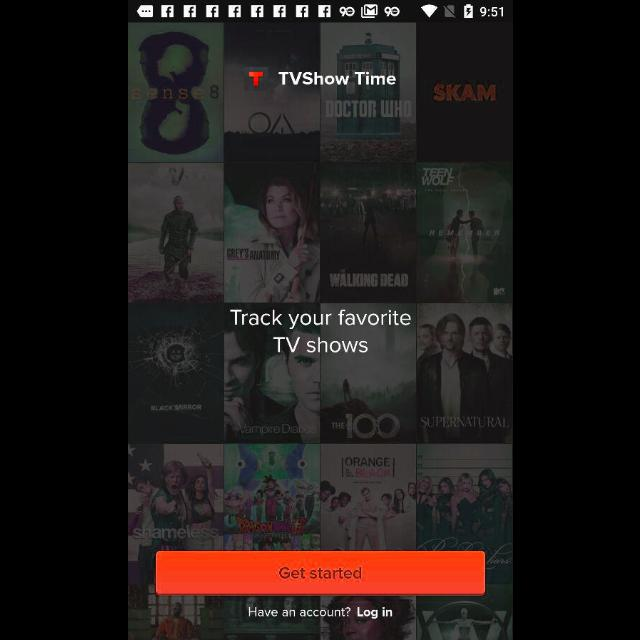backgroundimage: (128, 24, 512, 640)
image: (243, 67, 267, 91)
text: (230, 310, 410, 354), (248, 607, 392, 619), (278, 72, 396, 86)
textbutton: (156, 552, 484, 596)
uppertaskbar: (128, 1, 512, 23)
